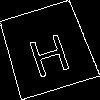H: (22, 24, 73, 79)
